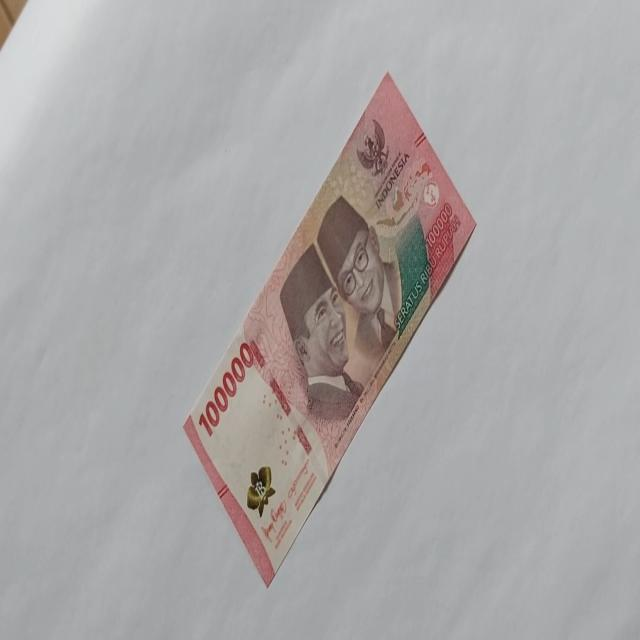seratus ribu rupiah: (182, 69, 478, 586)
